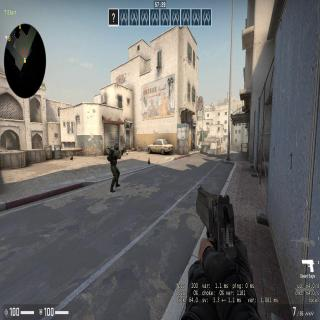CT-Body: (107, 140, 125, 188)
CT-Head: (114, 142, 119, 150)
